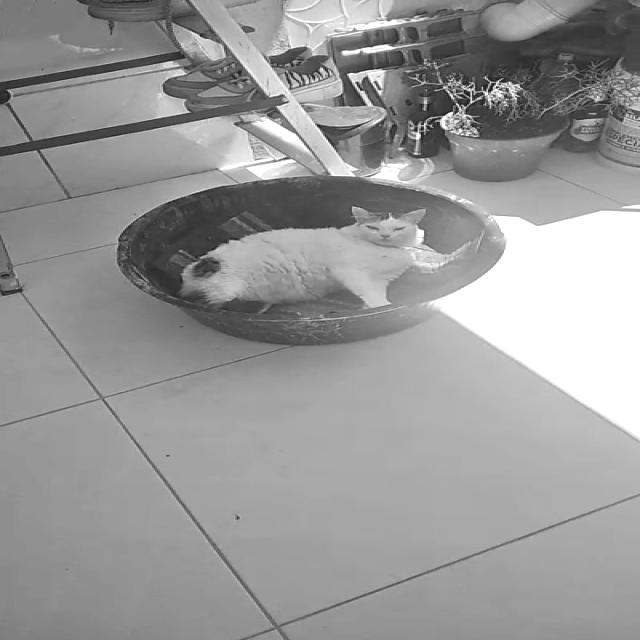Simba: (172, 200, 494, 304)
